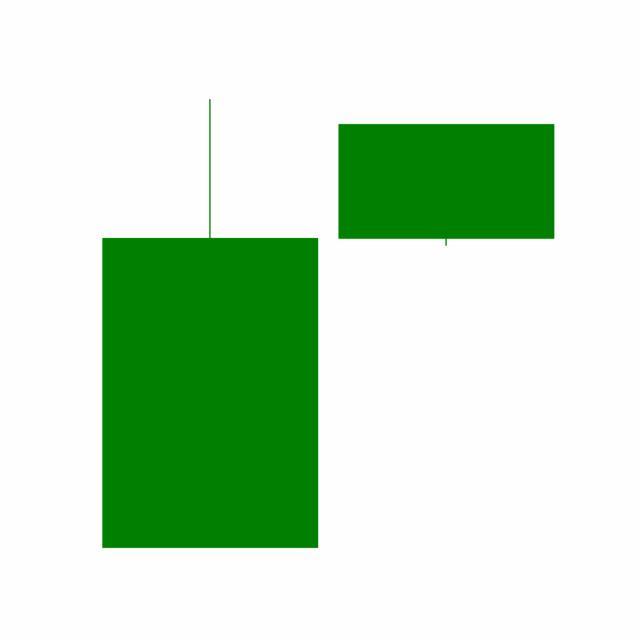Marubozu: (327, 122, 565, 248)
